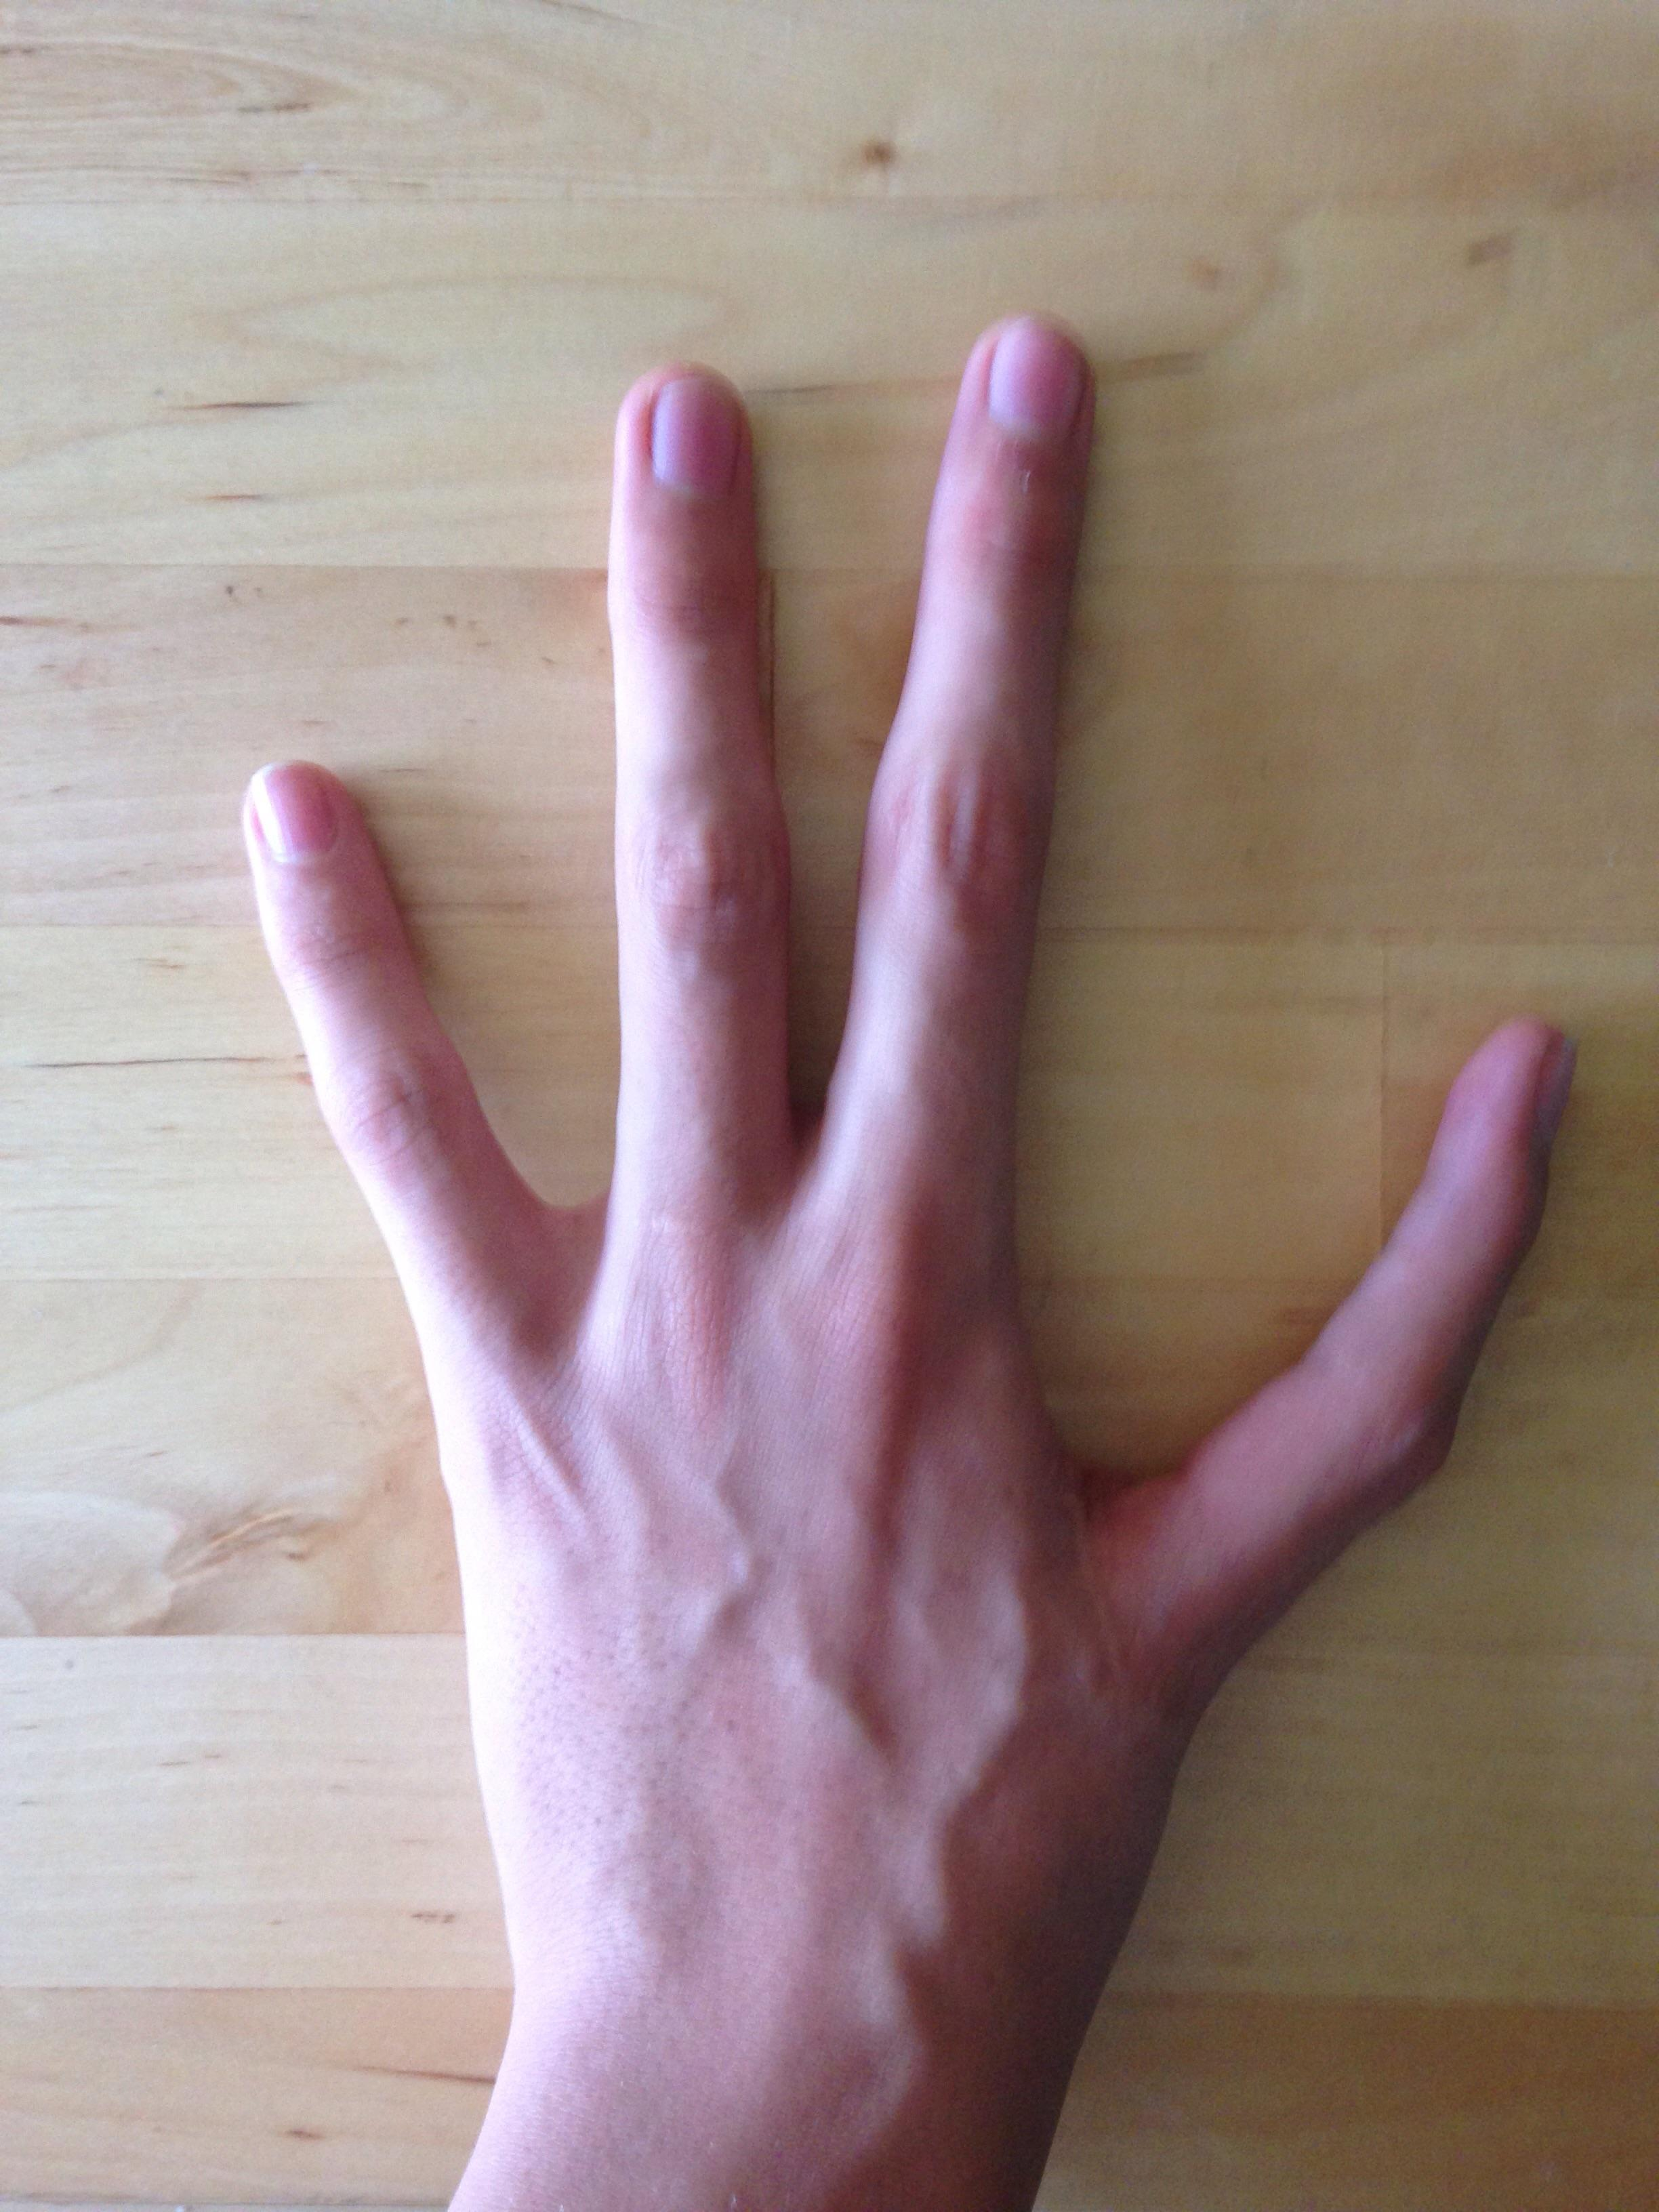finger: (1065, 935, 1601, 1714), (793, 310, 1140, 1186), (228, 726, 525, 1482), (561, 348, 802, 1264)
